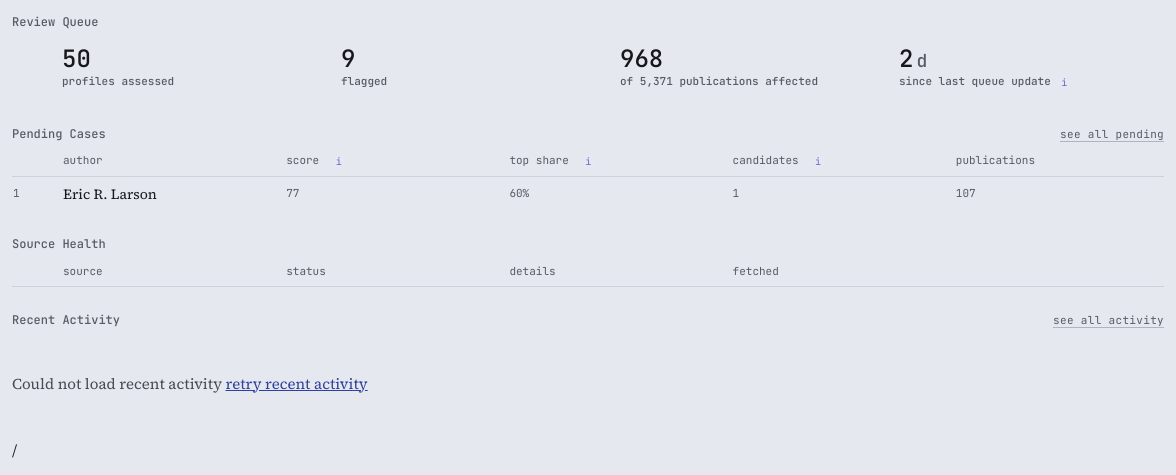
Test case: retains summary and pending cases when activity fails, retrying only activity
Expected: the link "Eric R. Larson" is shown, [63, 184, 157, 204]
Expected: the text "profiles assessed" is shown, [62, 74, 174, 88]
Click the button "retry recent activity". click: x=297, y=383
box: [226, 372, 368, 395]
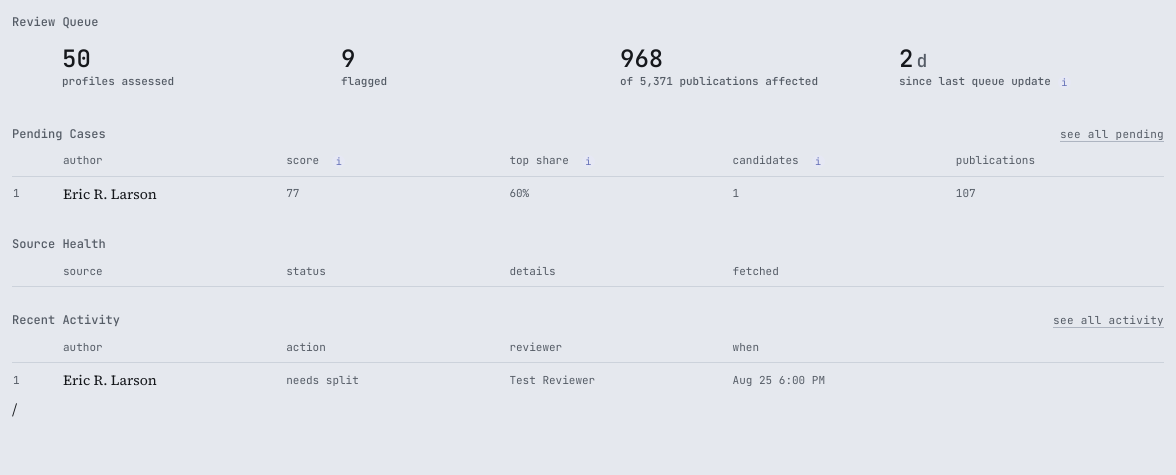
Expected: the text "Test Reviewer" is shown, [508, 372, 718, 389]
